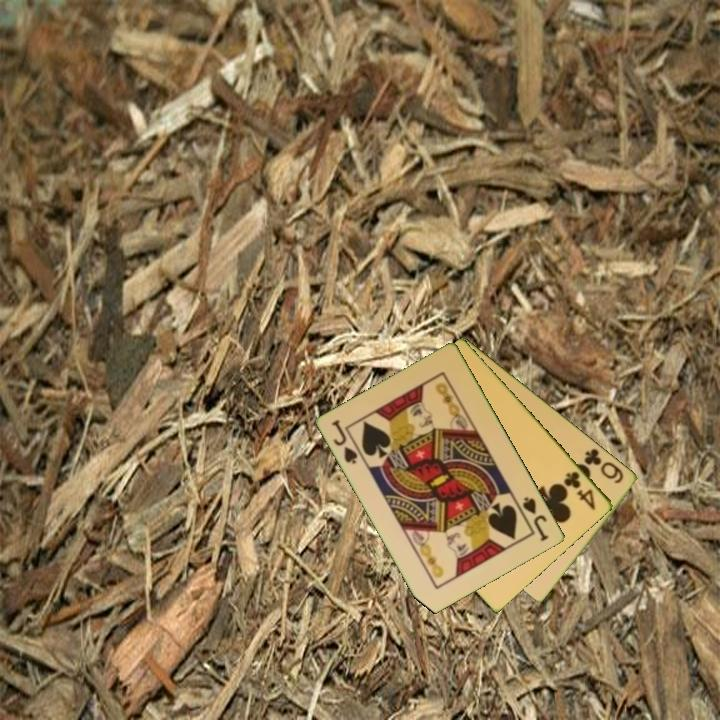4c: (560, 468, 599, 513)
6c: (581, 444, 627, 487)
Js: (519, 493, 552, 544), (329, 416, 361, 467)
